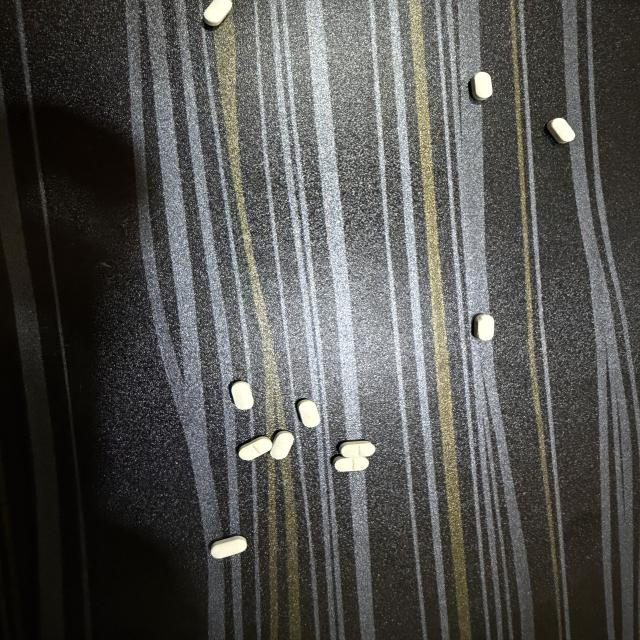pill: (210, 536, 247, 558), (239, 437, 272, 460), (204, 0, 232, 26), (547, 118, 575, 143), (297, 399, 320, 427), (271, 431, 294, 459), (231, 381, 253, 409), (340, 441, 375, 458), (473, 314, 495, 341), (471, 72, 492, 100), (333, 456, 369, 471)
